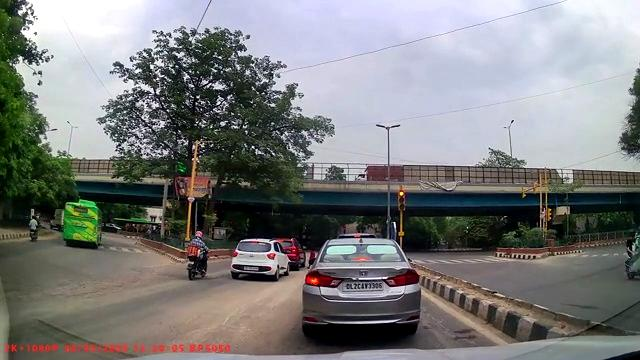motorcycle_with_helmet: (187, 231, 209, 280)
